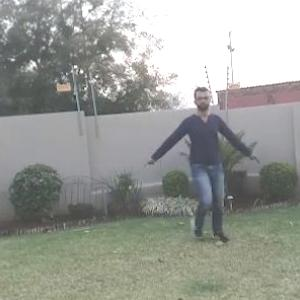land: (148, 94, 246, 224)
